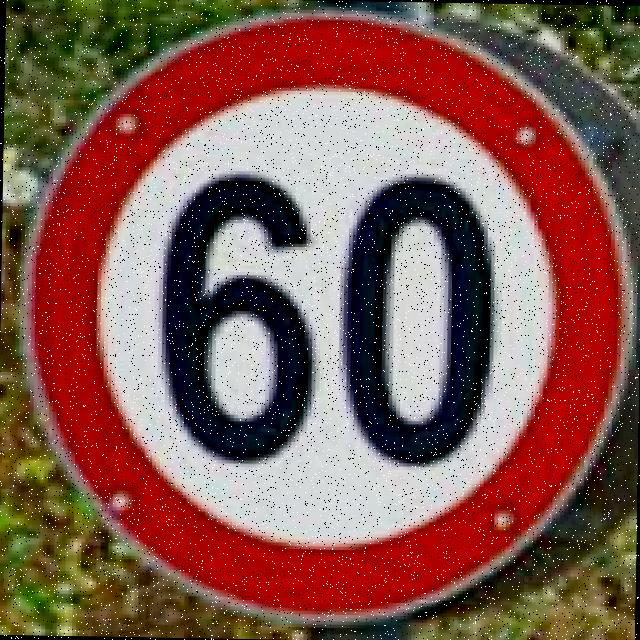Ograniczenie predkosci do 60: (10, 1, 634, 626)
